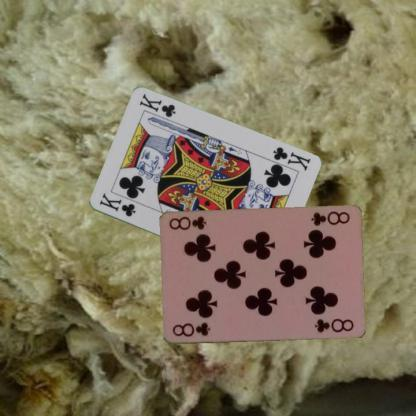8c: (308, 209, 351, 228), (170, 320, 212, 338)
Kc: (270, 144, 312, 173), (96, 190, 137, 218)
